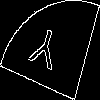Y: (25, 25, 63, 79)
